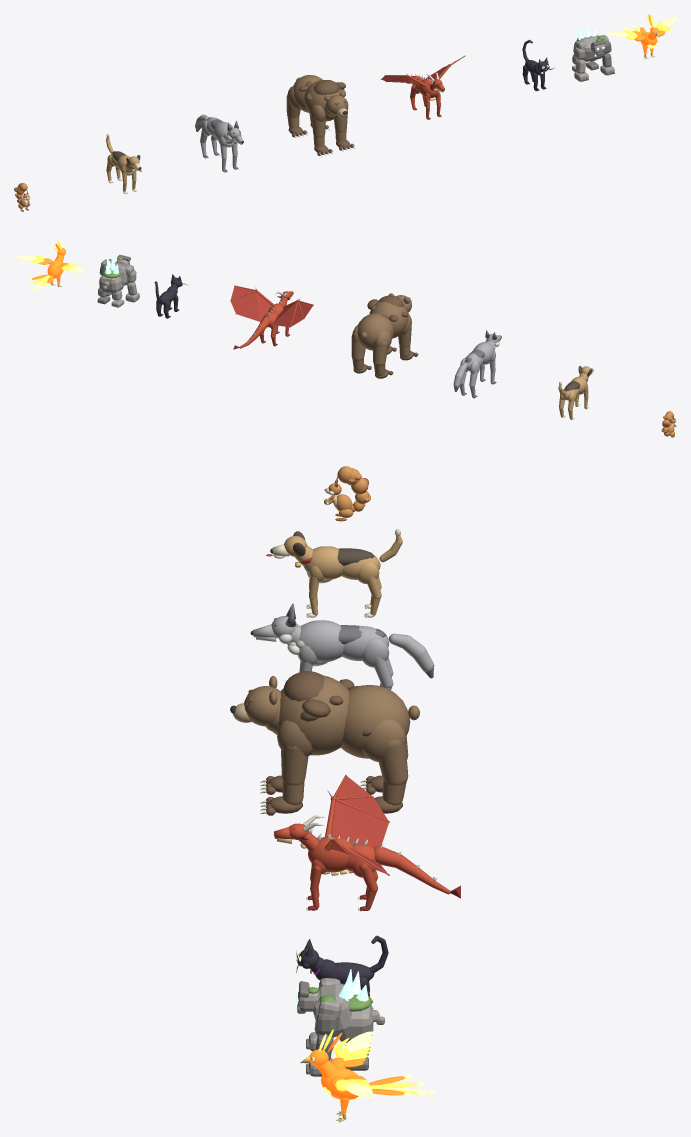
The model's file is companions.glb.
3 renders of one model, top to bottom at view 1: azimuth 30°, elevation 25°; view 2: azimuth 150°, elevation 25°; view 3: azimuth 270°, elevation 25°, orthographic. The views are drawn at different scales.
Visible parts, largest first — view 1: pet_ours__body, pet_golem__body, pet_loup__body, pet_ours__head, pet_ours__leg_FR, pet_ours__leg_FL, pet_ours__leg_BR, pet_chien__body, pet_golem__leg_FR, pet_dragon__body; view 2: pet_ours__body, pet_dragon__wing_L, pet_golem__body, pet_dragon__wing_R, pet_loup__body, pet_ours__leg_BR, pet_chien__body, pet_ours__leg_BL, pet_ours__leg_FR; view 3: pet_ours__body, pet_loup__body, pet_dragon__wing_R, pet_golem__body, pet_chien__body, pet_ours__leg_FL, pet_ours__leg_BL, pet_ours__head, pet_dragon__body, pet_dragon__tail, pet_loup__head, pet_chat__body (+1 smaller).
Boxes of the visible parts, <box> form: pet_ours__body: <box>287,75,348,121</box>; pet_golem__body: <box>573,24,608,61</box>; pet_loup__body: <box>201,117,236,147</box>; pet_ours__head: <box>324,90,348,117</box>; pet_ours__leg_FR: <box>311,116,332,156</box>; pet_ours__leg_FL: <box>334,111,354,151</box>; pet_ours__leg_BR: <box>286,94,307,137</box>; pet_chien__body: <box>107,151,135,175</box>; pet_golem__leg_FR: <box>574,47,588,81</box>; pet_dragon__body: <box>412,75,439,100</box>; pet_ours__body: <box>352,295,411,350</box>; pet_dragon__wing_L: <box>230,285,273,321</box>; pet_golem__body: <box>99,257,134,292</box>; pet_dragon__wing_R: <box>272,297,313,327</box>; pet_loup__body: <box>460,342,495,373</box>; pet_ours__leg_BR: <box>373,341,393,378</box>; pet_chien__body: <box>560,376,588,401</box>; pet_ours__leg_BL: <box>351,334,371,373</box>; pet_ours__leg_FR: <box>398,325,418,360</box>; pet_ours__body: <box>277,671,410,761</box>; pet_loup__body: <box>287,620,389,667</box>; pet_dragon__wing_R: <box>325,774,389,847</box>; pet_golem__body: <box>313,969,373,1042</box>; pet_chien__body: <box>304,546,380,583</box>; pet_ours__leg_FL: <box>260,745,308,815</box>; pet_ours__leg_BL: <box>374,740,408,813</box>; pet_ours__head: <box>230,676,280,734</box>; pet_dragon__body: <box>308,833,375,877</box>; pet_dragon__tail: <box>374,844,460,898</box>; pet_loup__head: <box>250,603,300,643</box>; pet_chat__body: <box>310,957,374,984</box>.
Size of the model in its own units: 12.22 by 1.13 by 1.87.
